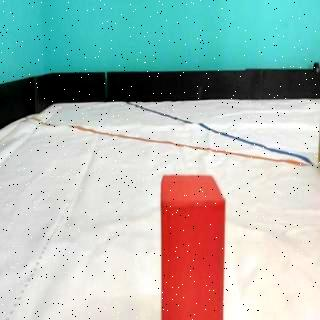redbox: (162, 176, 223, 320)
